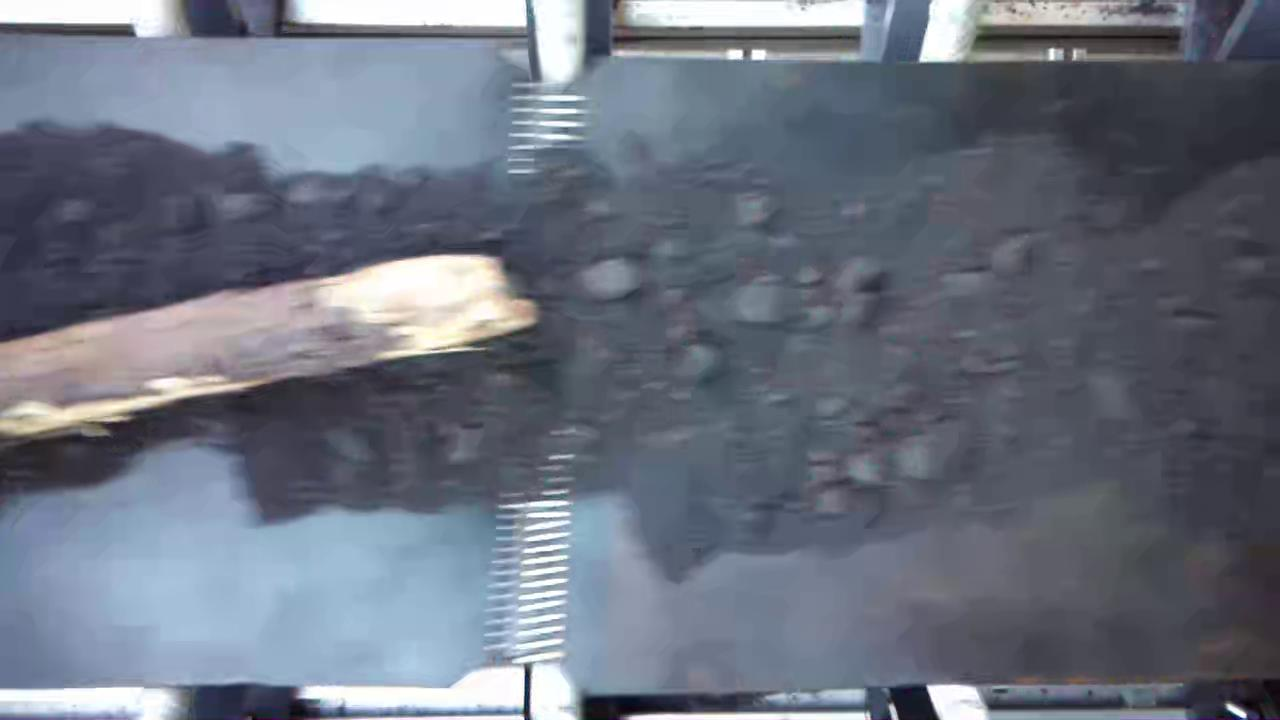conveyor: (16, 69, 1280, 671)
